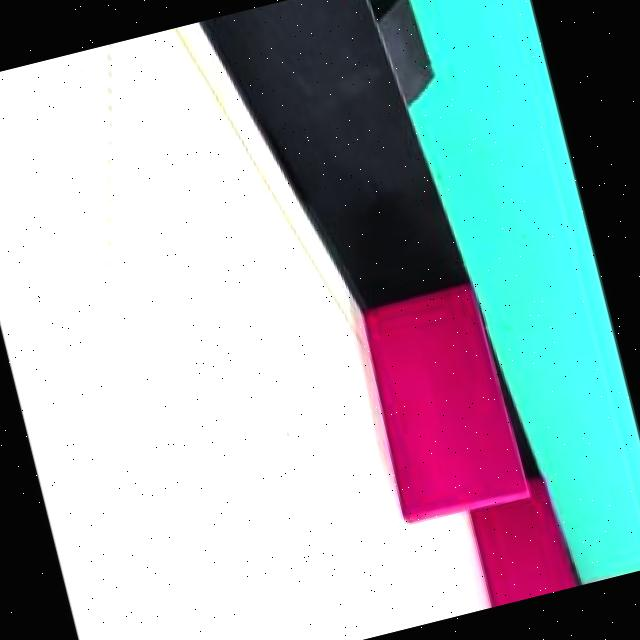xparking: (352, 284, 522, 517), (472, 492, 570, 606)
